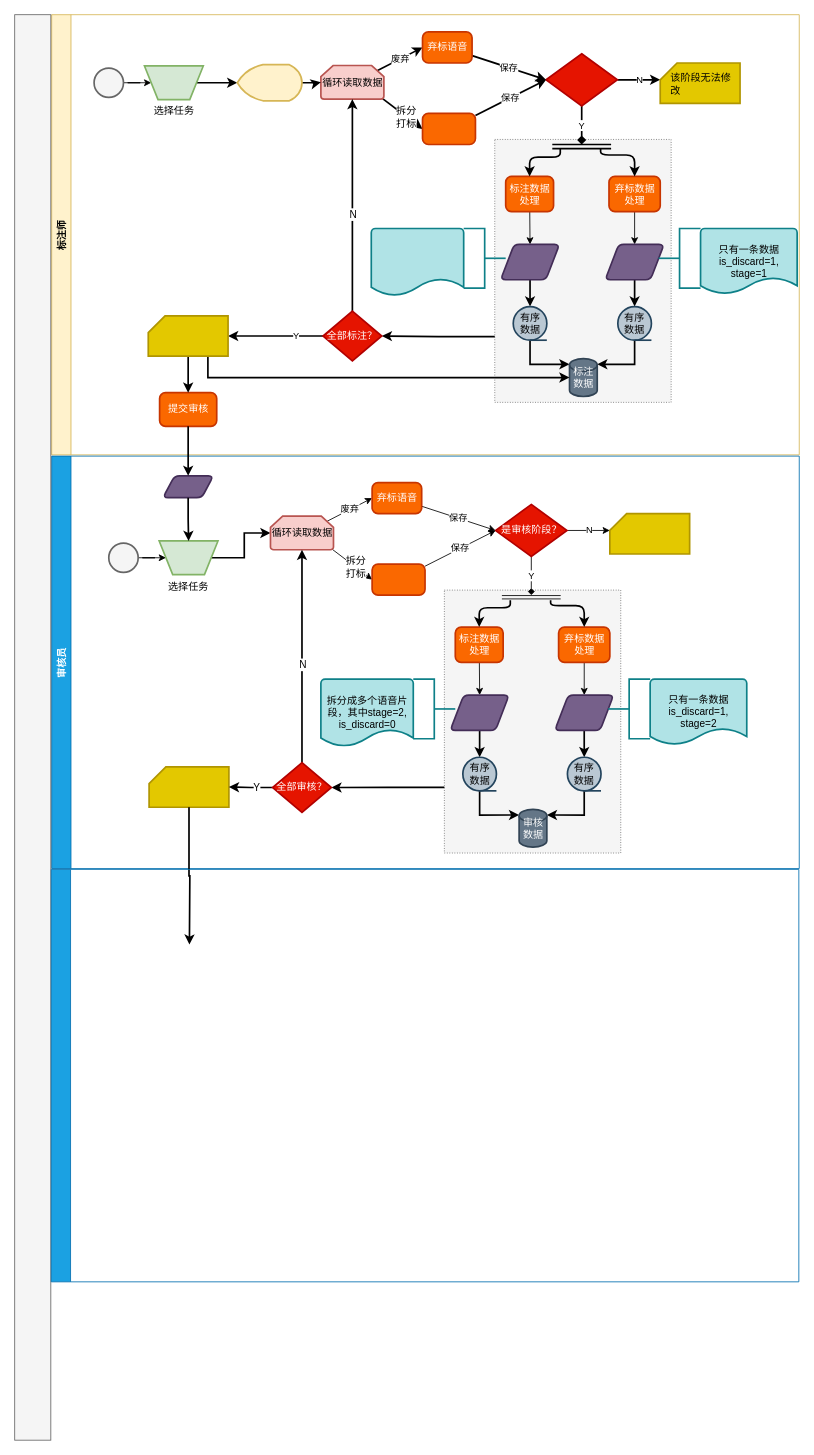
This 814x1455 diagram has some shape labels left out. Each missing label, with the centre of its shape:
(重)标注语音: pixel 448 128
已全部审核，是否提交抽检？: pixel 188 787
已提交审核， 不能修改: pixel 649 533
抽检员: pixel 424 1075
拆分成多个语音片段，其中stage=1, is_discard=0: pixel 417 261
标注任务已完成，是否提交审核？: pixel 187 336
标注记录 审核记录: pixel 269 82
标注语音: pixel 398 579
标注质检流程图（v4.0）: pixel 32 727
标注阶段？ 重标阶段？: pixel 581 79
